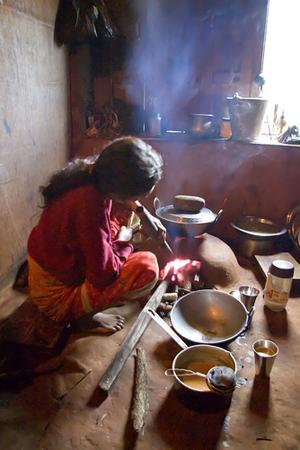person: (26, 137, 167, 330)
